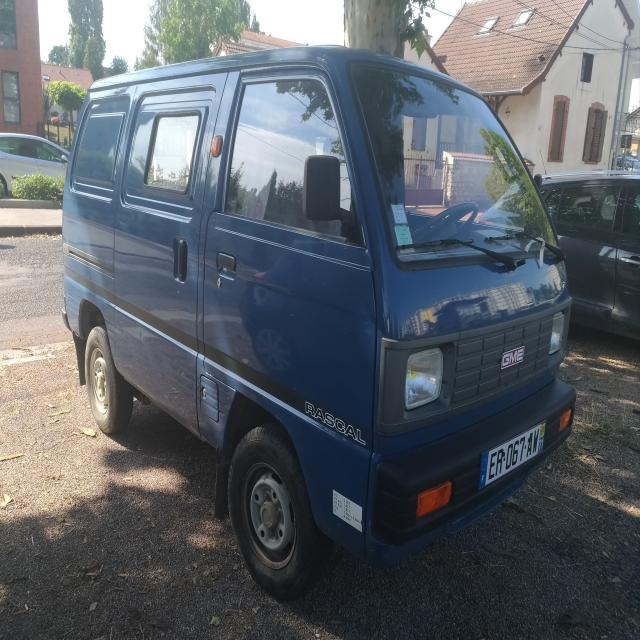plate: (478, 419, 546, 490)
